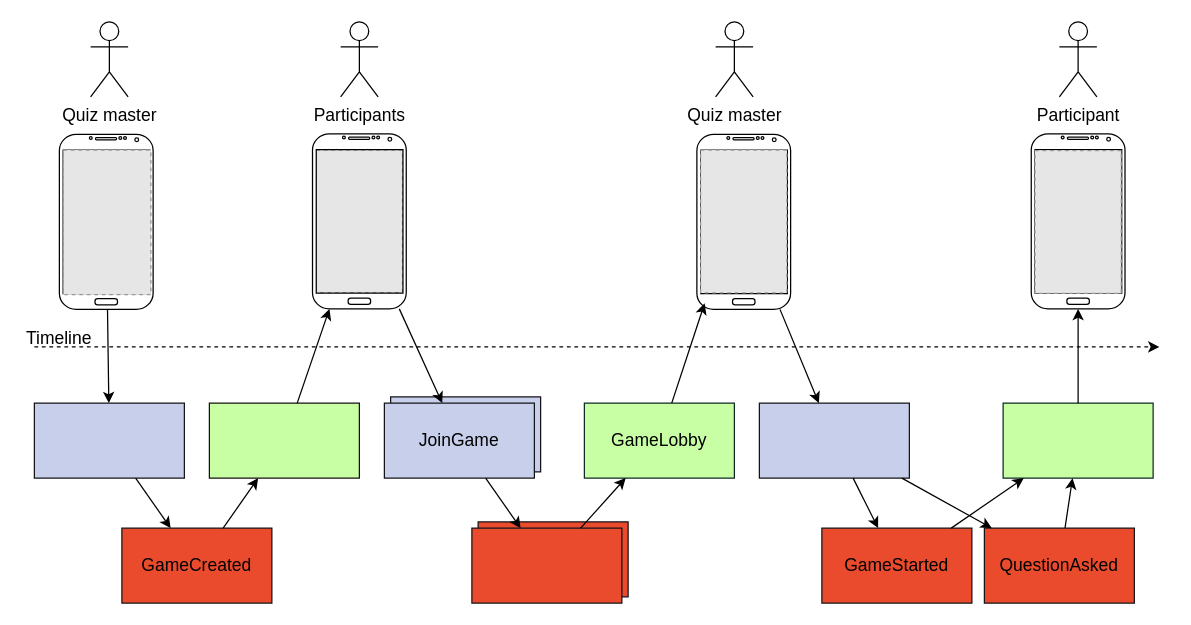
Image size: 1191x625. Some labels were removed from this diagram. Grey dashed boxes stand in for pictures. Each missing label, with the centre of its shape:
"CreateGame" goes at [108,440].
"game room" goes at [1077,440].
"open games" goes at [283,440].
"PlayerJoined Game" goes at [546,565].
"StartGame" goes at [833,440].
